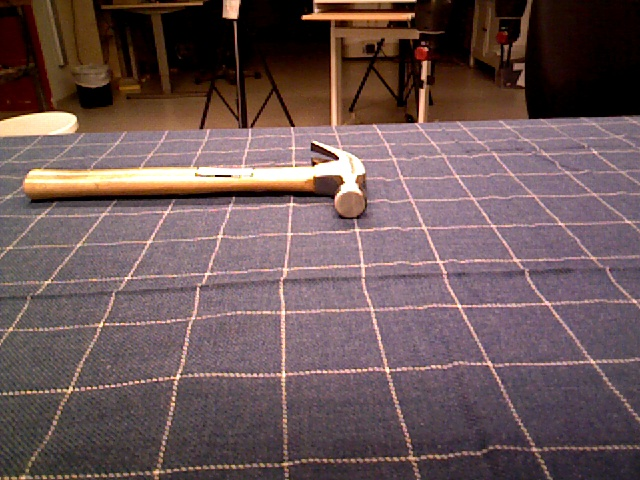hammer1: (21, 139, 370, 219)
